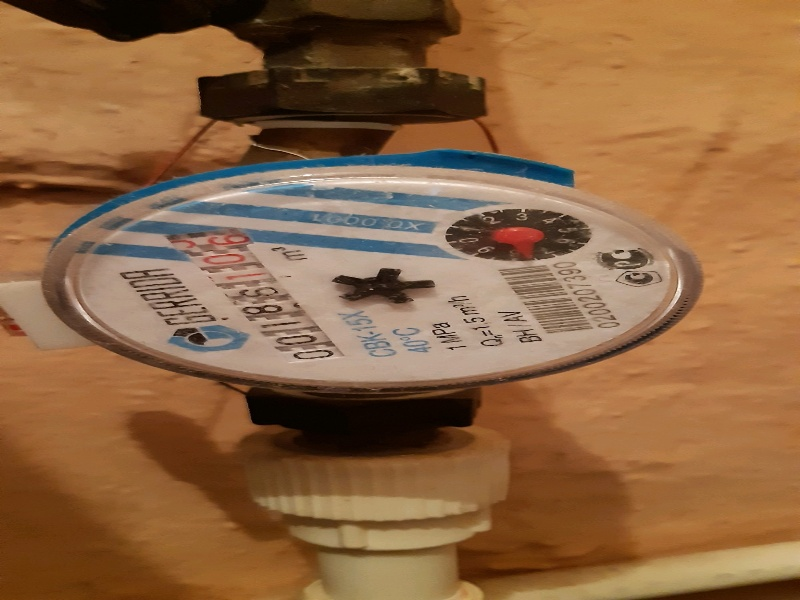meter: (181, 222, 318, 360)
